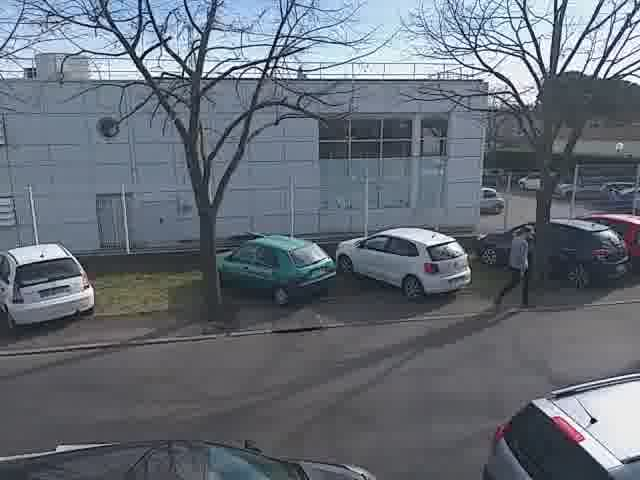persona: (492, 215, 539, 307)
